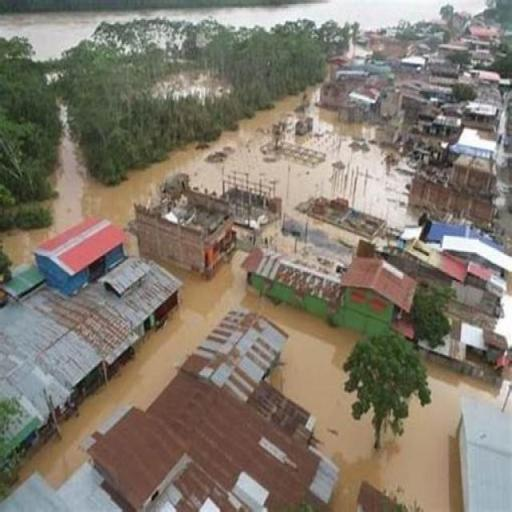flood: (19, 250, 498, 512), (0, 94, 418, 264), (0, 0, 446, 59), (458, 128, 512, 192), (347, 44, 373, 56), (306, 86, 320, 102)
house: (190, 305, 290, 399), (151, 178, 237, 276), (453, 389, 512, 512), (40, 213, 123, 289), (342, 252, 416, 332), (352, 477, 403, 512)
